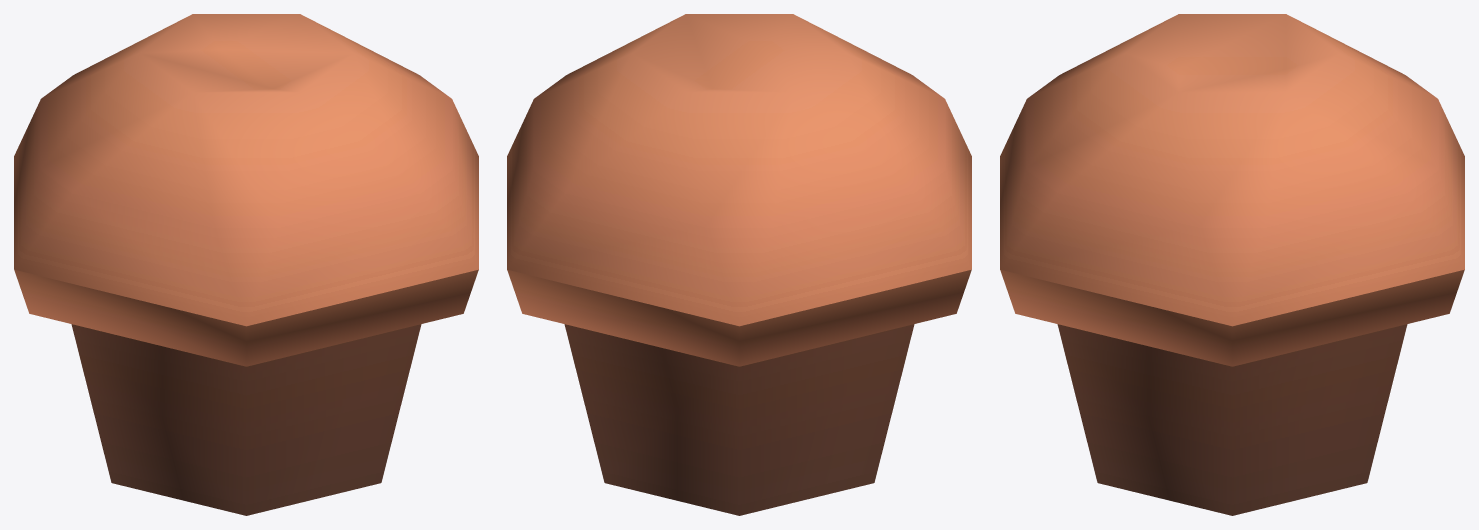
Rendered from muffin.glb.
3 renders of one model, left to right at view 1: azimuth 30°, elevation 25°; view 2: azimuth 150°, elevation 25°; view 3: azimuth 270°, elevation 25°, orthographic.
Parts seen in each view (by area): view 1: muffin; view 2: muffin; view 3: muffin.
Boxes of the visible parts, x1,y1,x2,y2 form: muffin: (14,14,478,515); muffin: (507,14,971,515); muffin: (1000,14,1464,515).
Bounding box in the file's own units: 0.3047 × 0.2486 × 0.2639.
1 material, 1 textured.
